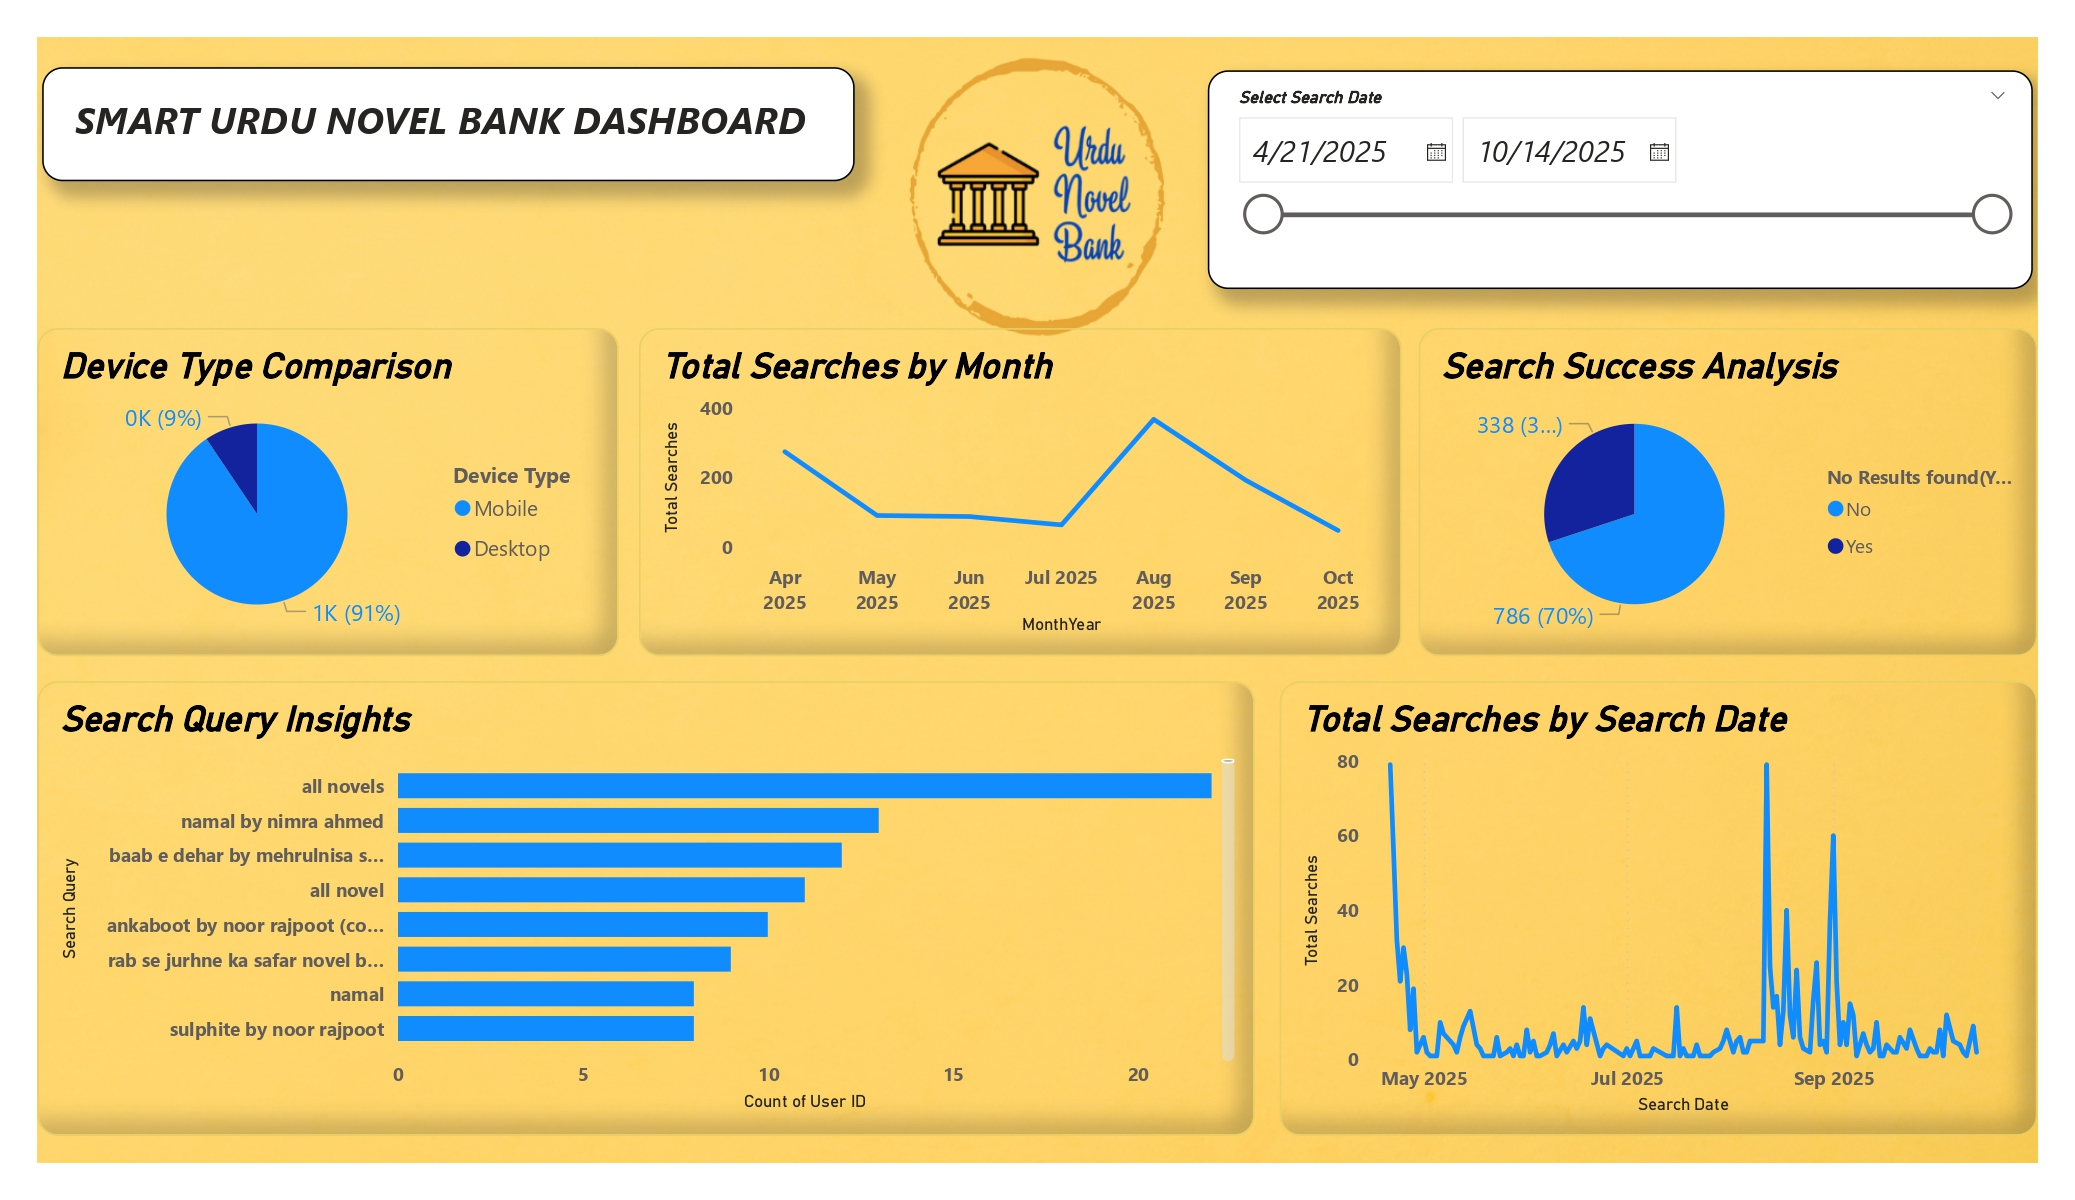

The page's visual inventory and layout, read from the dashboard file:
{"tool":"powerbi","page":{"name":"Page 2","canvas":[1280,720],"ordinal":0},"visuals":[{"type":"pieChart","title":"Device Type Comparison","fields":{"Y":["pub?output=csv.Device Type"],"Category":["pub?output=csv.Device Type"]},"box":[0,186.1,372.2,210],"z":0},{"type":"pieChart","title":"Search Success Analysis","fields":{"Series":["pub?output=csv.No Results (Yes/No)"],"Y":["pub?output=csv.No Results (Yes/No)"]},"box":[884.4,186.1,396.1,210],"z":1000},{"type":"barChart","title":"Search Query Insights","fields":{"Category":["pub?output=csv.Search Query"],"Y":["pub?output=csv.User ID"]},"box":[0,412,779.4,291.1],"z":2000},{"type":"lineChart","fields":{"Y":["pub?output=csv.Total Searches"],"Category":["pub?output=csv.Search Date"]},"box":[795.3,412,485.1,291.1],"z":3000},{"type":"lineChart","title":"Total Searches by Month","fields":{"Y":["pub?output=csv.Total Searches"],"Category":["pub?output=csv.MonthYear"]},"box":[384.9,186.1,488.3,210],"z":4000},{"type":"textbox","box":[3.2,19.1,520.1,73.2],"z":5000},{"type":"slicer","fields":{"Values":["pub?output=csv.Search Date"]},"box":[749.2,20.7,528.1,140],"z":6000}]}

Visuals, with their boxes on the page's 1280x720 design canvas (x1, y1, x2, y2). These are canvas units, not pixel positions in the 2075x1200 screenshot, which may show the page scaled, cropped or inside an application window:
"Device Type Comparison" pieChart: l=0, t=186, r=372, b=396
"Search Success Analysis" pieChart: l=884, t=186, r=1280, b=396
"Search Query Insights" barChart: l=0, t=412, r=779, b=703
lineChart - pub?output=csv.Total Searches x pub?output=csv.Search Date: l=795, t=412, r=1280, b=703
"Total Searches by Month" lineChart: l=385, t=186, r=873, b=396
textbox: l=3, t=19, r=523, b=92
slicer - pub?output=csv.Search Date: l=749, t=21, r=1277, b=161
